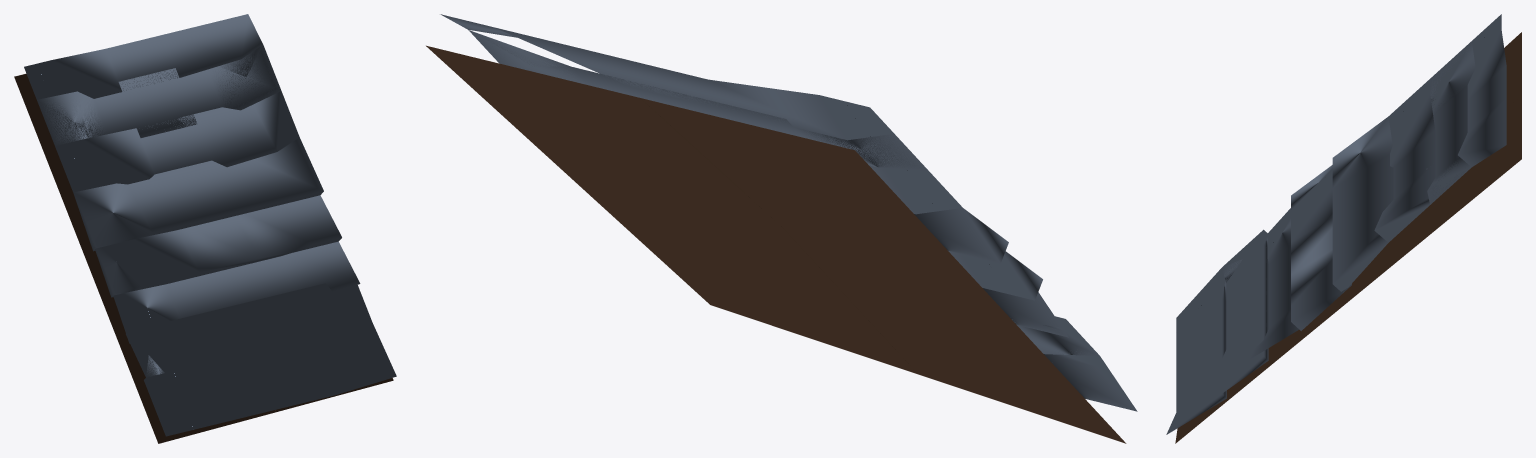
The model's file is roof_slate_lod1.glb.
The picture shows the model from 3 angles, left to right: view 1: azimuth 30°, elevation 25°; view 2: azimuth 150°, elevation 25°; view 3: azimuth 270°, elevation 25°; orthographic projection. The views are drawn at different scales.
Bounding box in the file's own units: 2.1 × 2.44 × 2.48.
